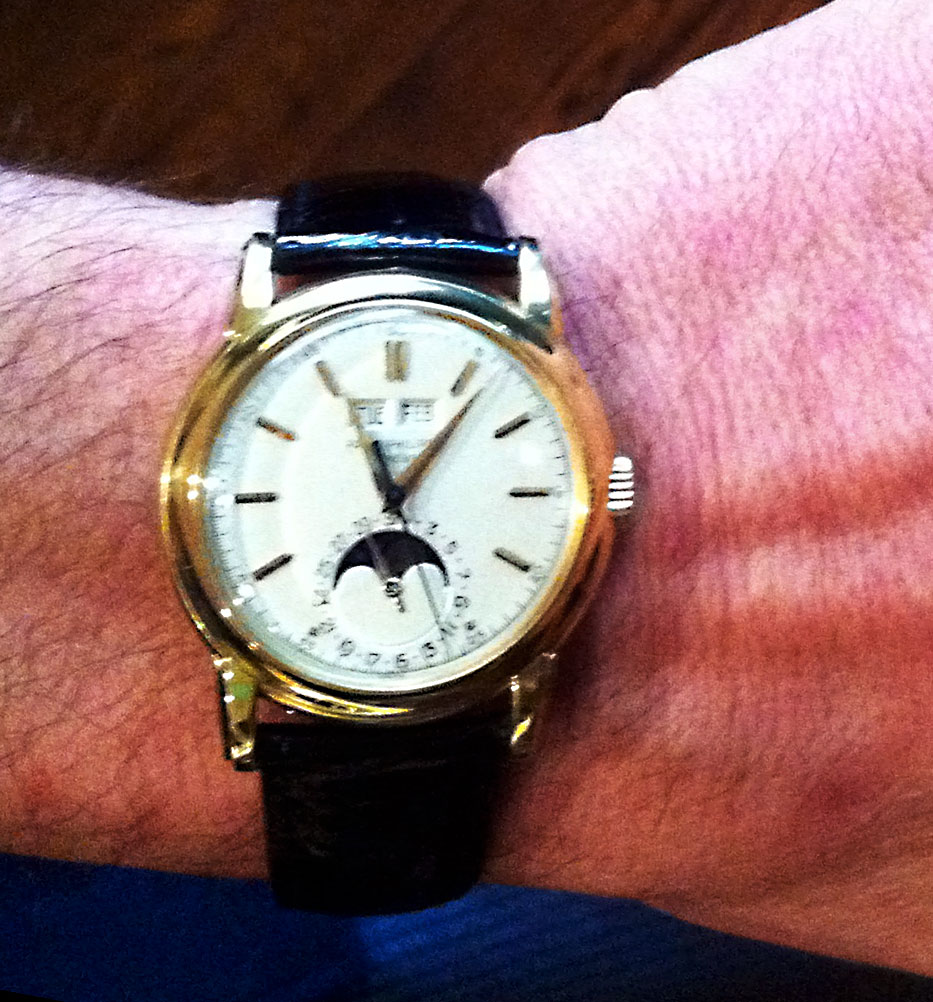clock: (204, 303, 580, 688)
